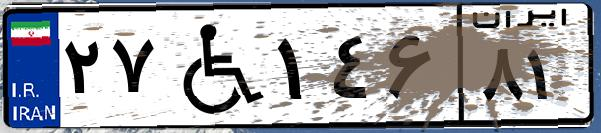1: (270, 28, 330, 110), (525, 38, 570, 115)
2: (57, 26, 110, 100)
4: (330, 28, 385, 110)
6: (385, 28, 445, 110)
7: (110, 28, 158, 98)
8: (475, 38, 525, 113)
ژ (معلولین و جانبازان): (158, 12, 270, 120)
